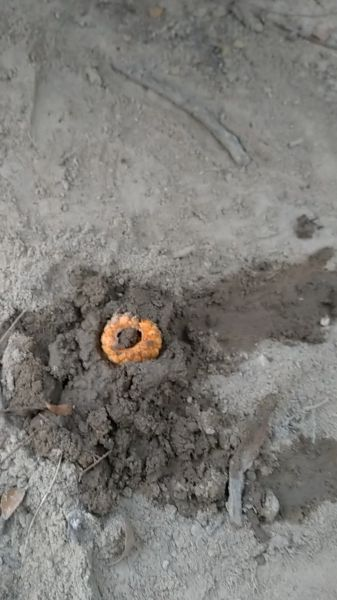eggs: (96, 305, 169, 370)
